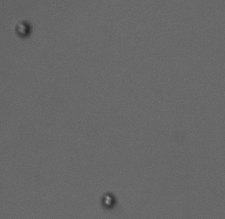Living Cell: (14, 20, 32, 38), (101, 192, 116, 209)
